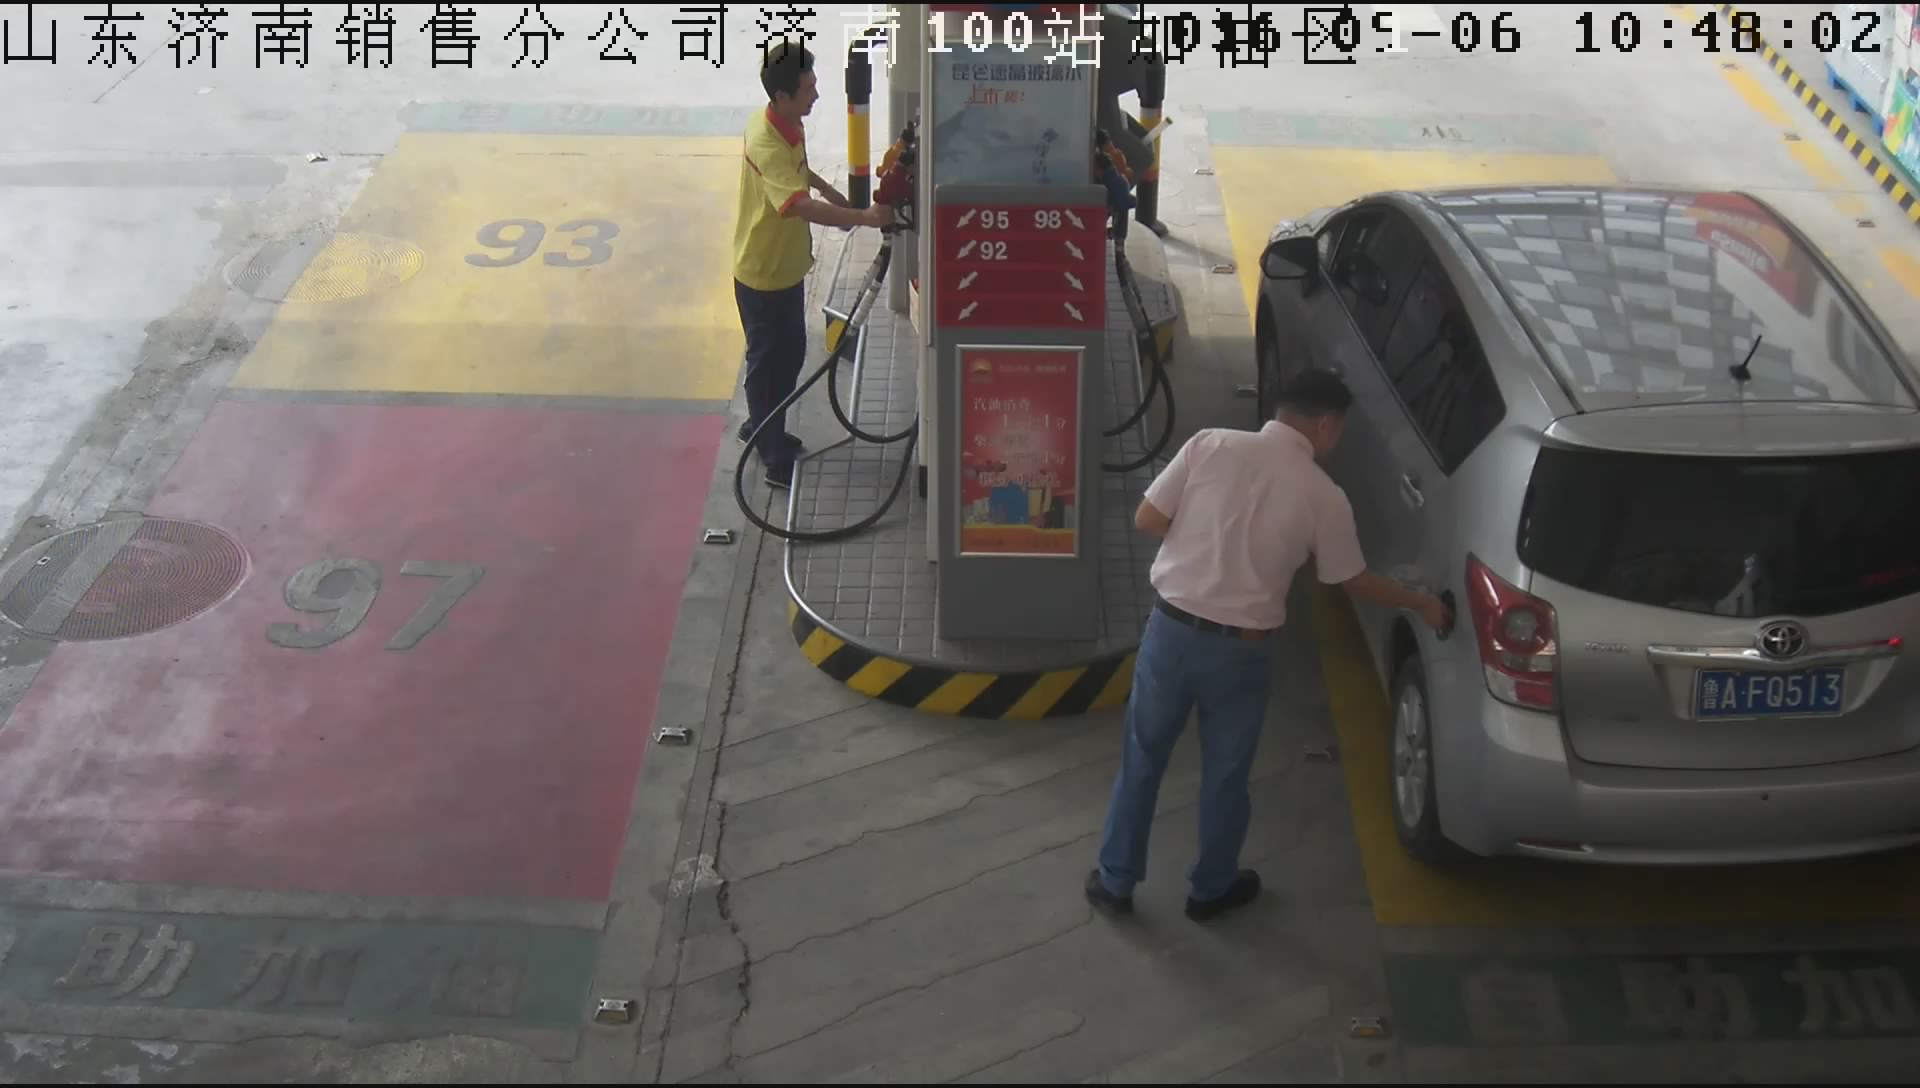blue: (1691, 663, 1850, 721)
